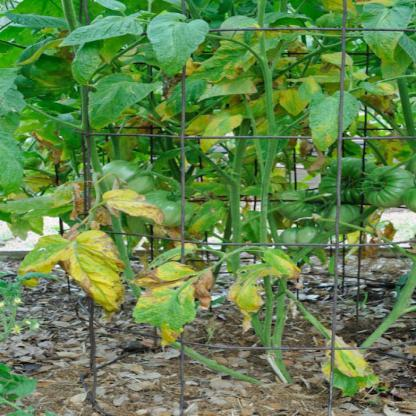tomato early blight leaf: (225, 250, 313, 328), (133, 263, 214, 346), (64, 228, 125, 308), (106, 187, 170, 233), (200, 114, 244, 152), (276, 86, 309, 116)
tomato leaf: (149, 13, 208, 80), (88, 71, 149, 127), (62, 15, 142, 42)
